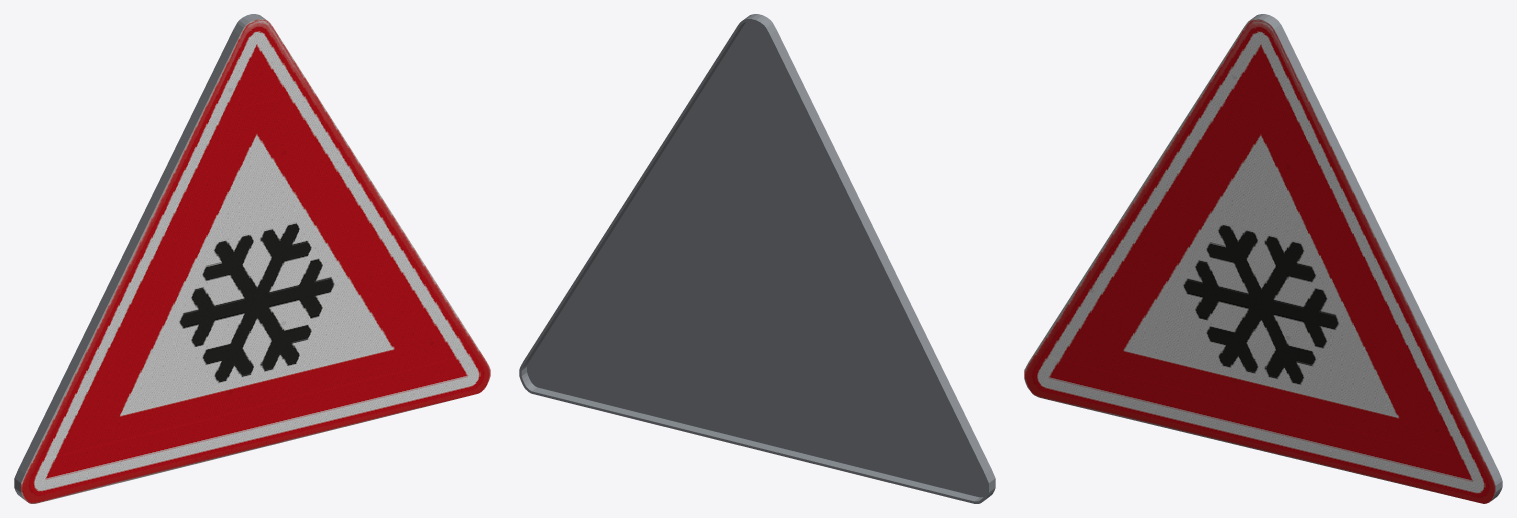
3 renders of one model, left to right at view 1: azimuth 30°, elevation 25°; view 2: azimuth 150°, elevation 25°; view 3: azimuth 330°, elevation 25°, orthographic.
Parts seen in each view (by area): view 1: cat_309b23d3e7dd0b74; view 2: cat_309b23d3e7dd0b74; view 3: cat_309b23d3e7dd0b74.
Part boxes in pixels (<box>): cat_309b23d3e7dd0b74: <box>14,14,490,503</box>; cat_309b23d3e7dd0b74: <box>519,14,995,503</box>; cat_309b23d3e7dd0b74: <box>1024,14,1502,503</box>.
Bounding box in the file's own units: 0.6 × 0.015 × 0.5256.
Materials: 2 (1 with a texture image).
